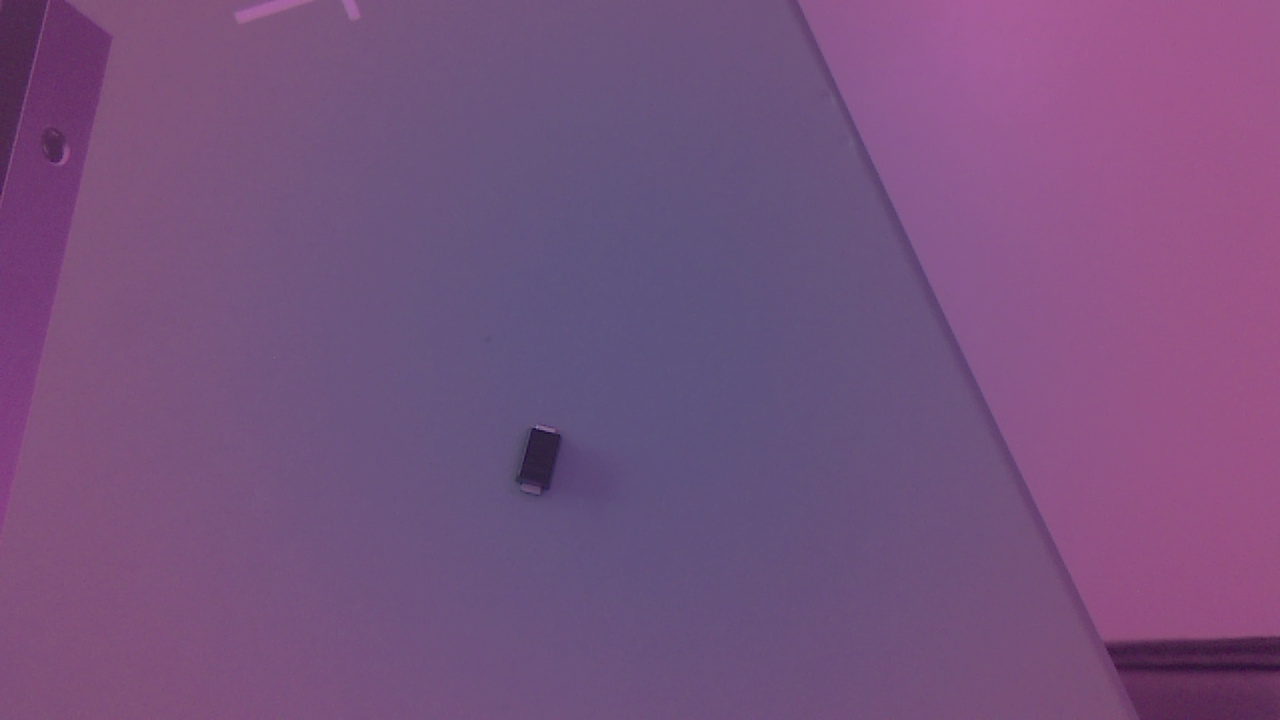Diode: (515, 427, 578, 506)
